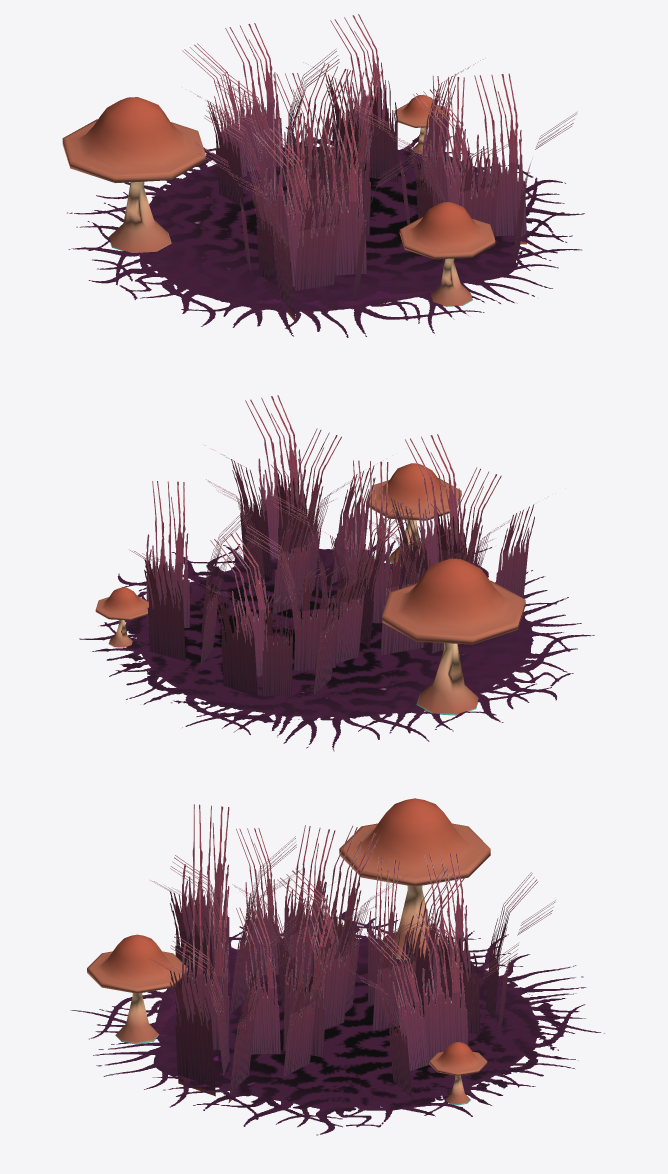
The model's file is ShroomPatch.fbx.
The picture shows the model from 3 angles, top to bottom: view 1: azimuth 30°, elevation 25°; view 2: azimuth 150°, elevation 25°; view 3: azimuth 270°, elevation 25°; orthographic projection.
Visible parts, largest first — view 1: Plane.006; view 2: Plane.006; view 3: Plane.006.
Part boxes in pixels (x1,y1,x2,y2): Plane.006: [62, 14, 584, 337]; Plane.006: [79, 395, 594, 751]; Plane.006: [70, 798, 604, 1135].
Size of the model in its own units: 356 by 95.07 by 356.
